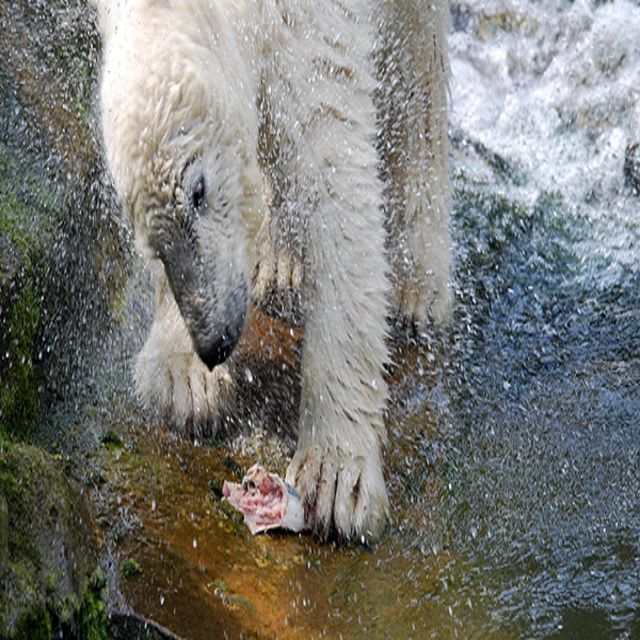Polar bear: (92, 0, 459, 547)
